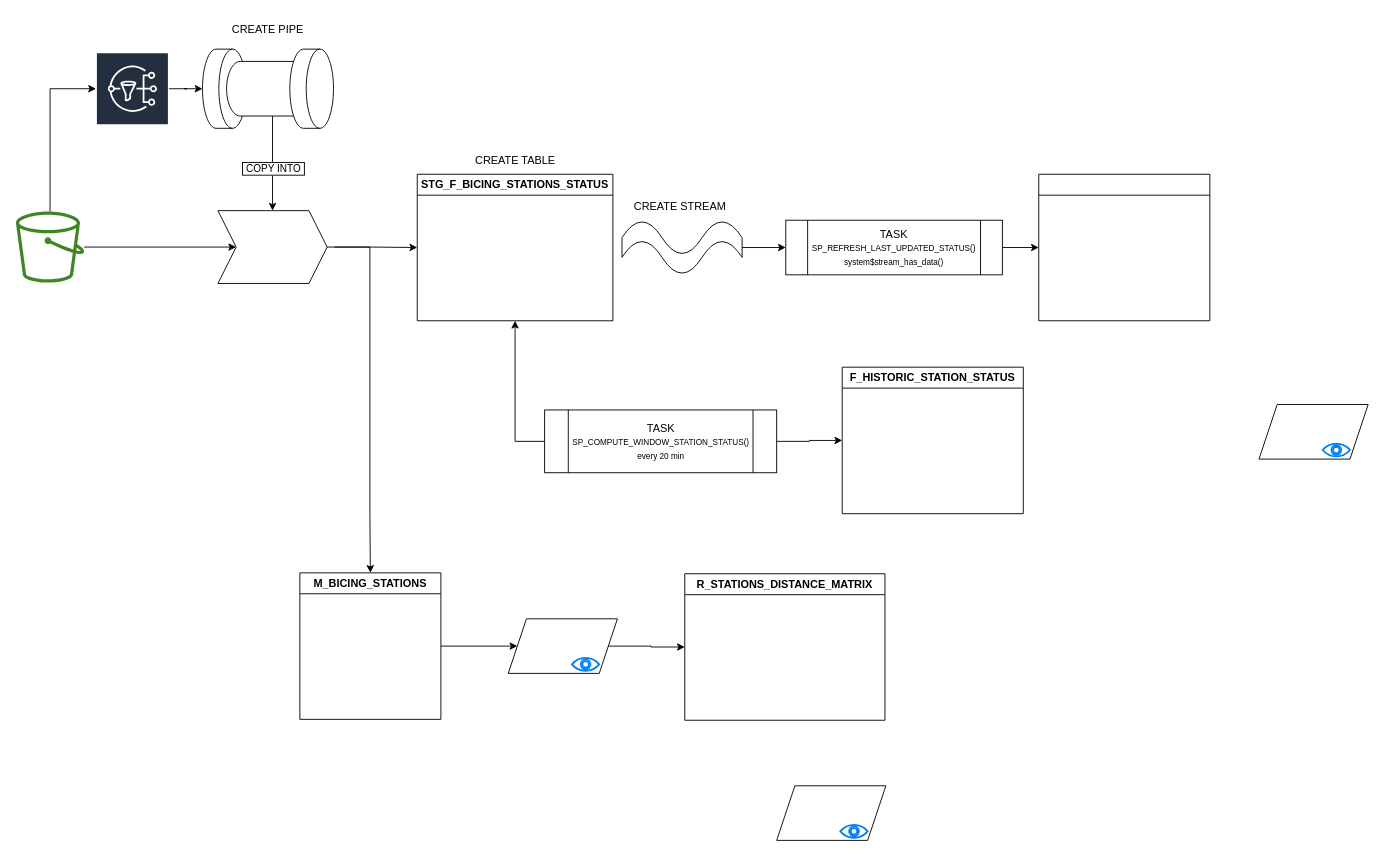
Image size: 1384x856. Some labels were removed from this diagram. The centre of each missing label's shape, as x and y in pixels:
F_LAST_UPDATED_STATUS: pixel 1124 247
Snowpipe: pixel 224 88
STAGE: pixel 272 246
